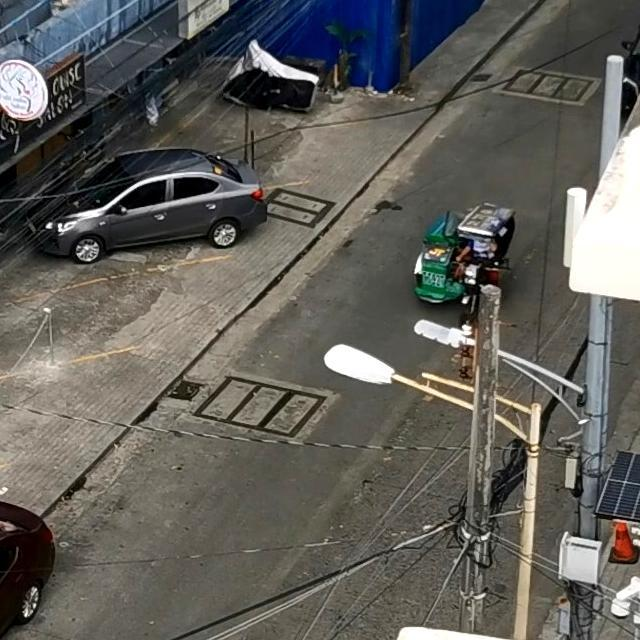Car: (32, 148, 261, 261), (615, 0, 640, 115)
